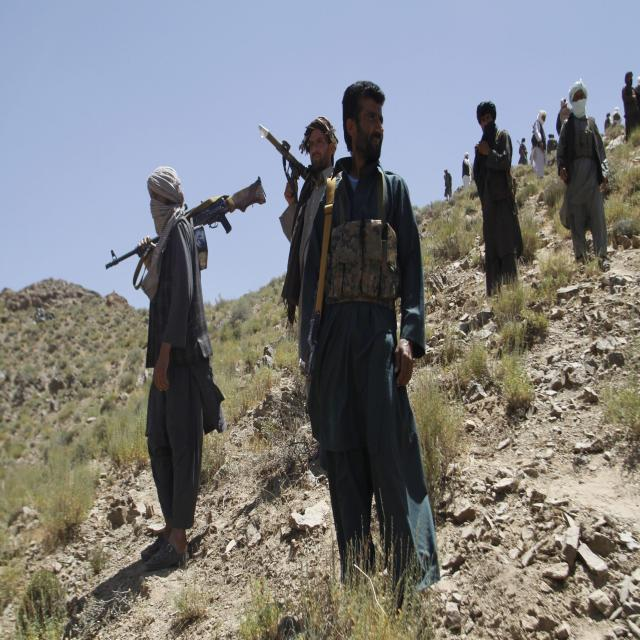Militant: (258, 80, 442, 597), (107, 162, 270, 584), (459, 104, 538, 316), (557, 77, 614, 276), (610, 66, 640, 162)
